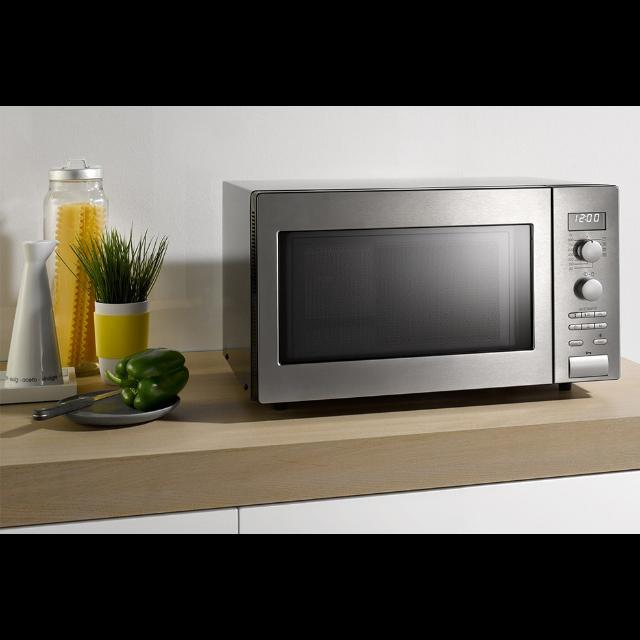Microwave: (218, 178, 624, 406)
